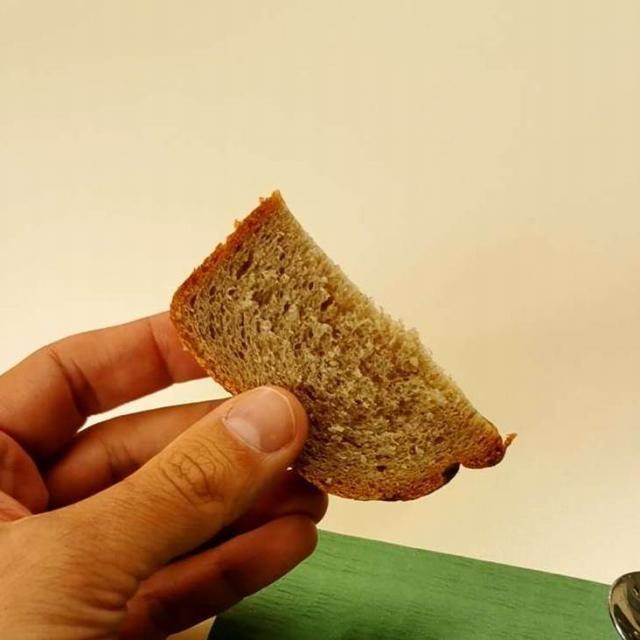bread: (190, 194, 490, 512)
